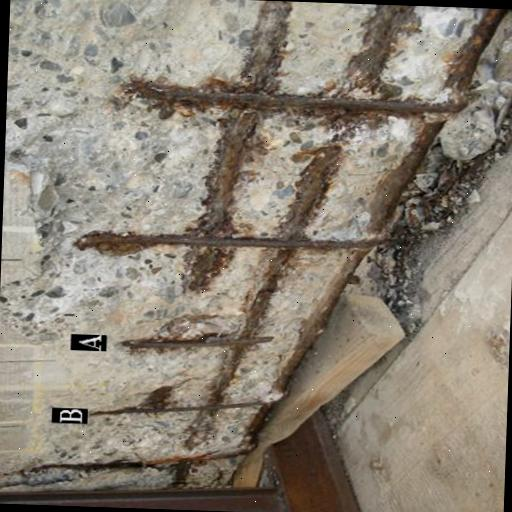spalling: (0, 0, 511, 489)
